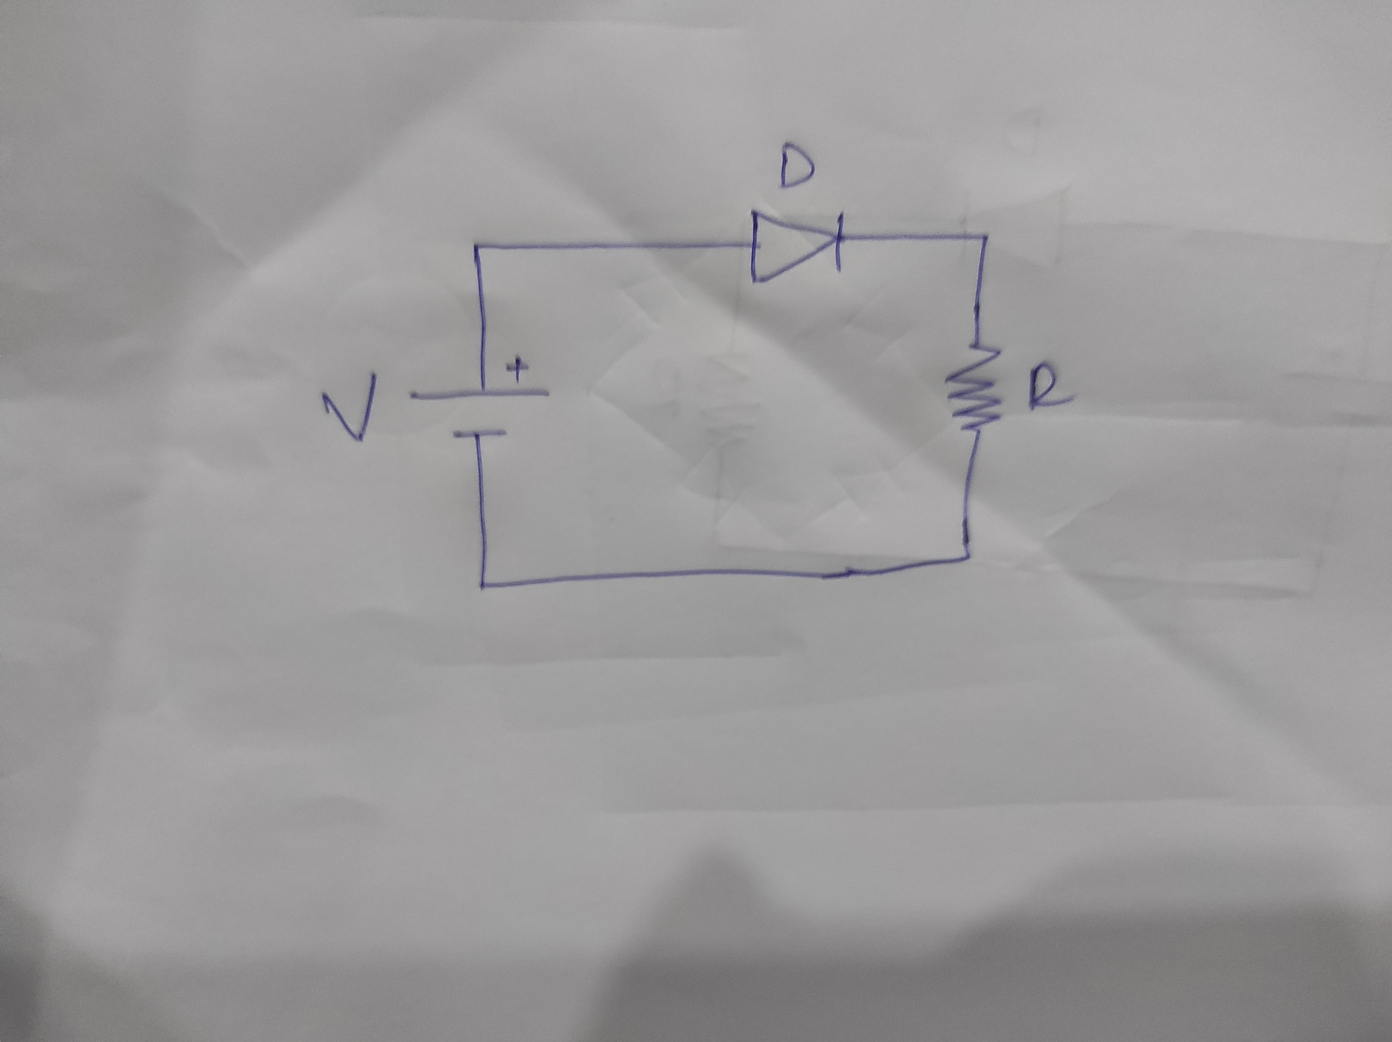diode: (747, 205, 848, 288)
junction: (947, 539, 983, 574), (967, 225, 998, 253), (465, 231, 492, 262), (471, 571, 496, 597)
resistor: (946, 340, 1006, 438)
text: (320, 370, 379, 445), (1025, 358, 1076, 414), (776, 136, 817, 192)
voltage.dc: (401, 354, 553, 443)
